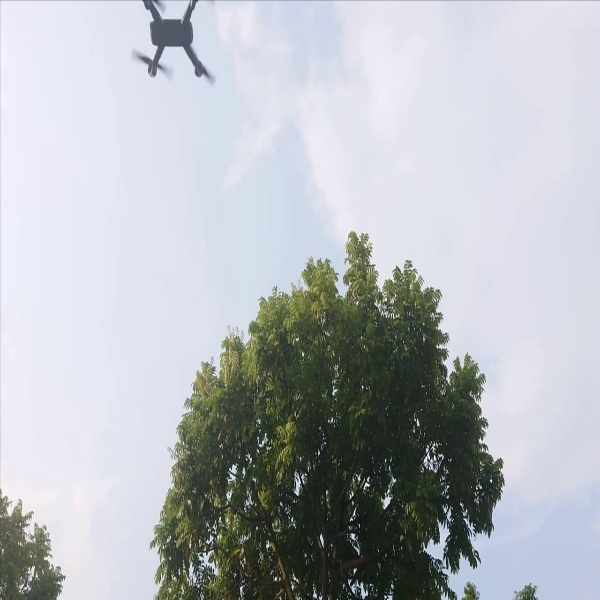drone: (128, 1, 226, 95)
